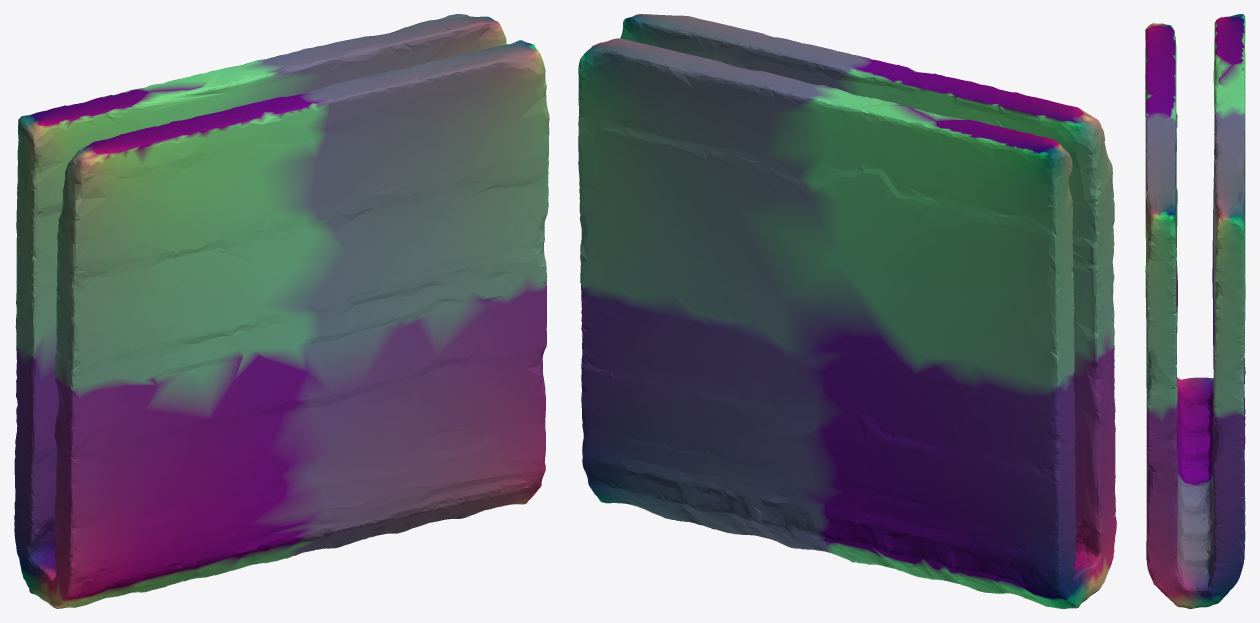
File: paper-14.off.obj
3 views of the same model, side by side, from view 1: azimuth 30°, elevation 25°; view 2: azimuth 150°, elevation 25°; view 3: azimuth 270°, elevation 25° (orthographic). The views are drawn at different scales.
Size of the model in its own units: 1.32 by 1.25 by 0.2821.
